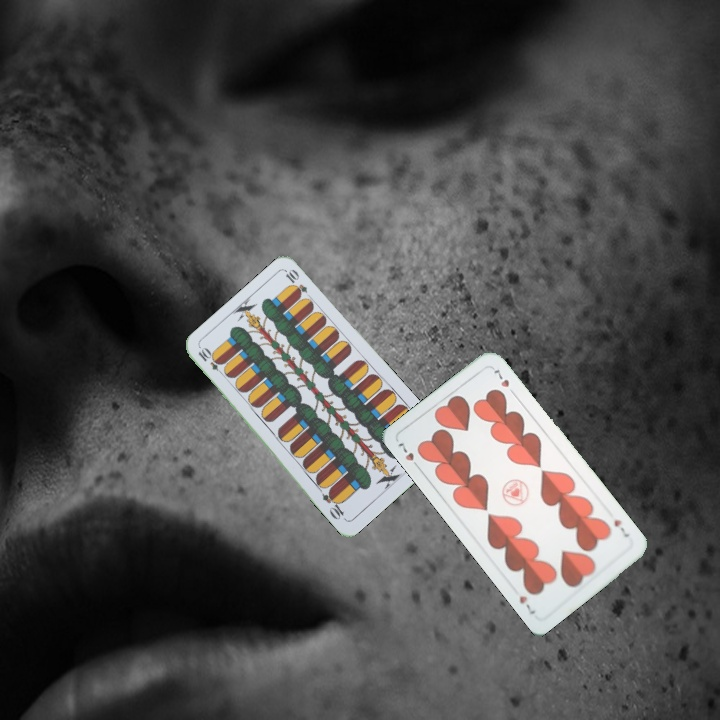E10: (194, 344, 228, 378)
H7: (394, 438, 423, 472), (610, 515, 632, 541)
